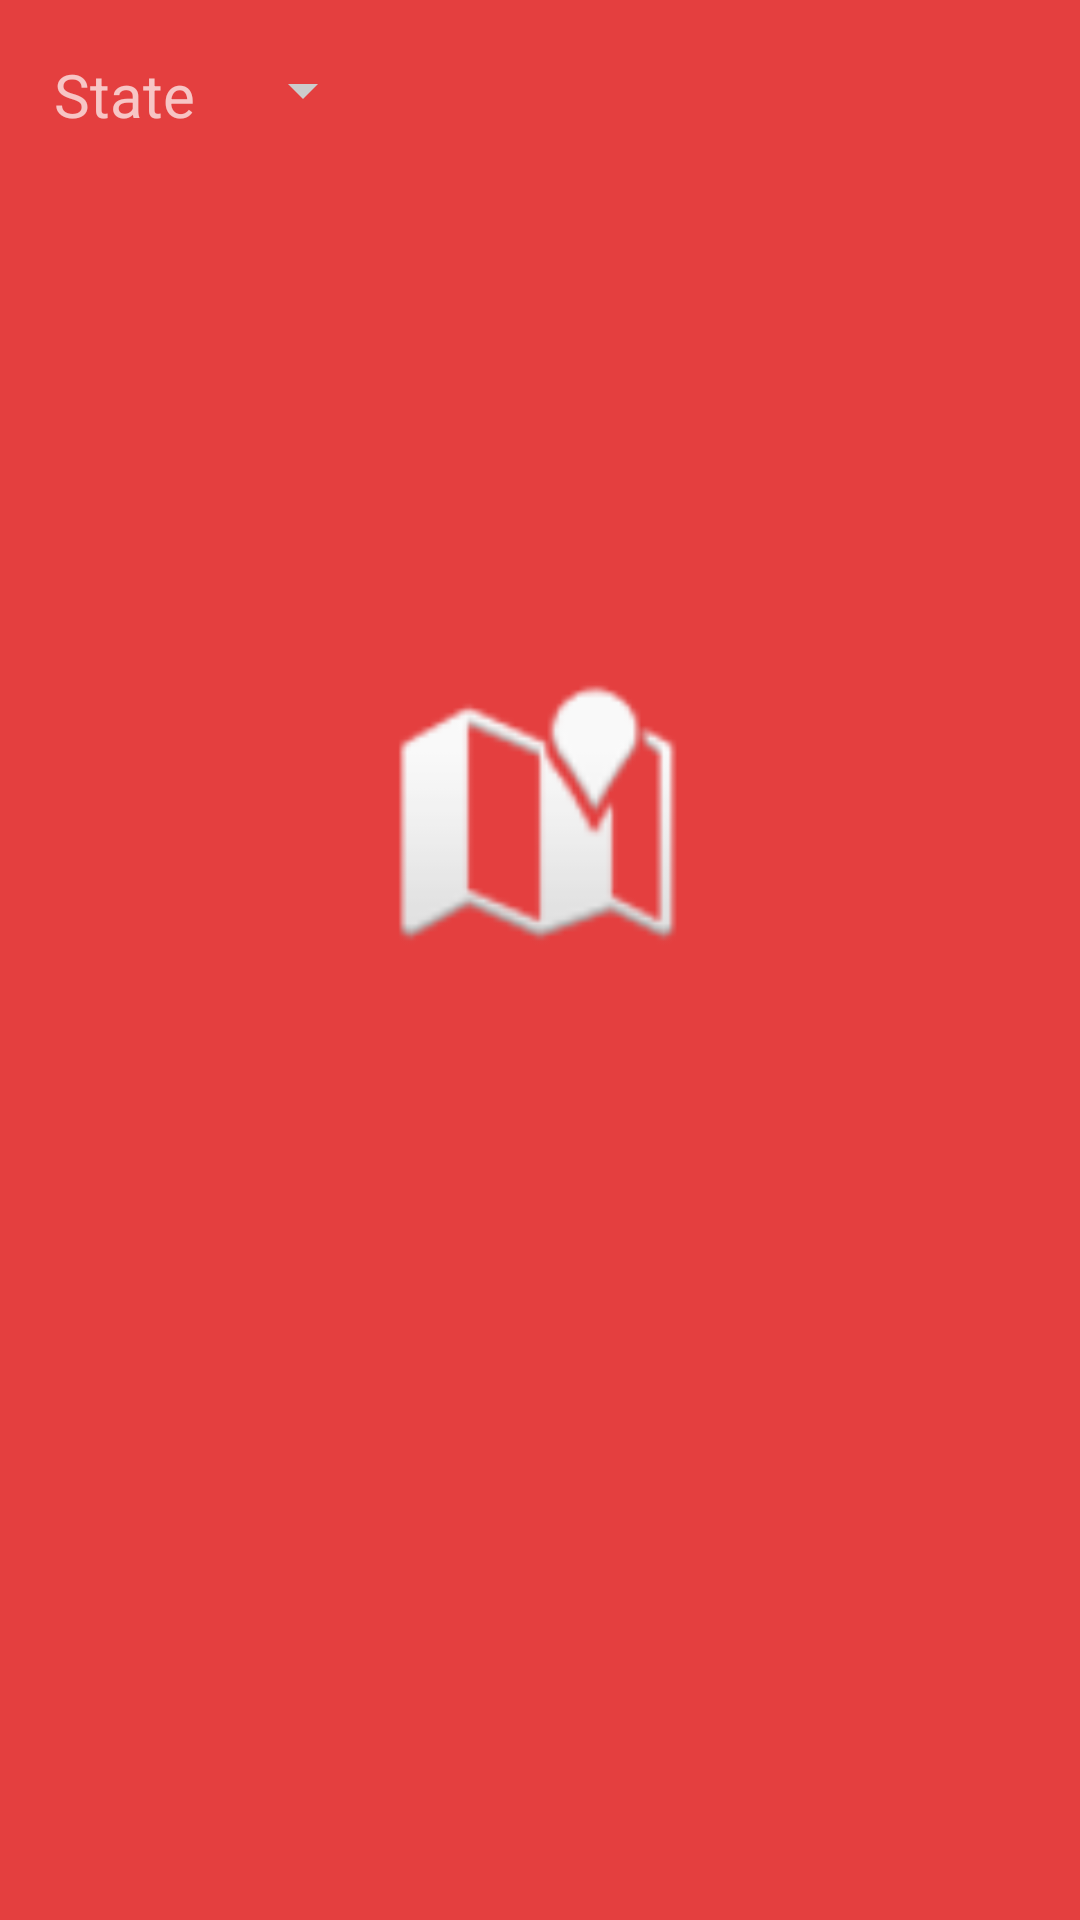

Where icons sit on this 1080*1920 app screen, as detection(x1, y1, x2, y2):
map: detection(399, 686, 676, 938)
